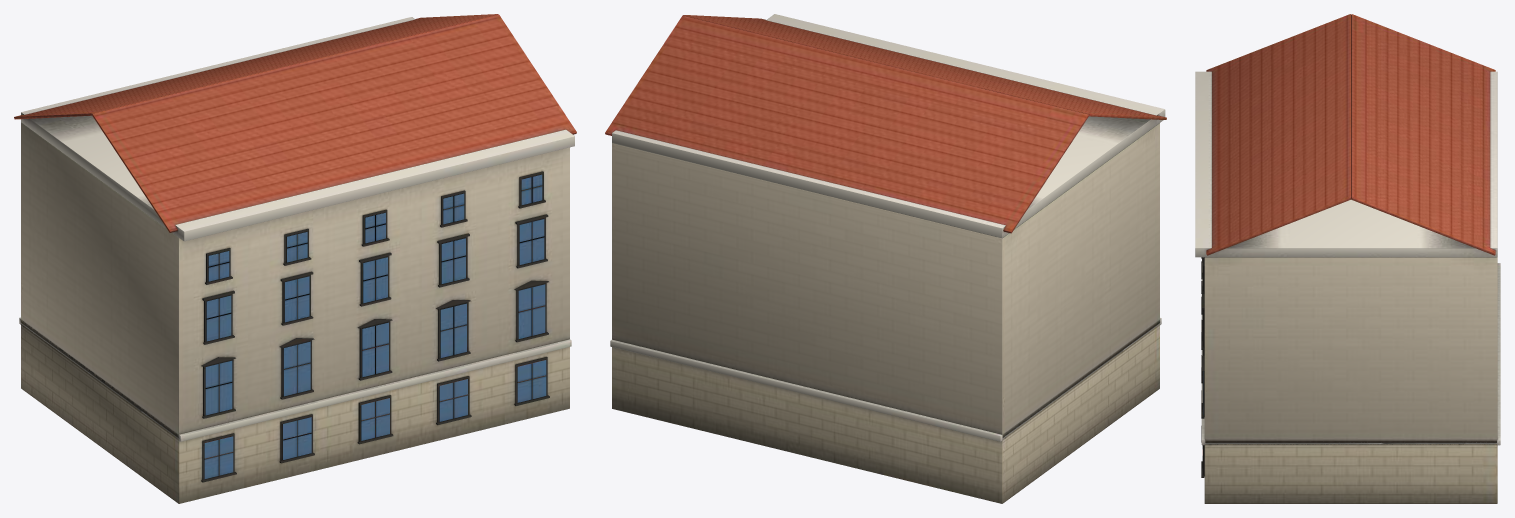
File: irs.glb
3 renders of one model, left to right at view 1: azimuth 30°, elevation 25°; view 2: azimuth 150°, elevation 25°; view 3: azimuth 270°, elevation 25°, orthographic. The views are drawn at different scales.
Visible parts, largest first — view 1: irs; view 2: irs; view 3: irs.
Boxes of the visible parts, box(x1,y1,x2,y2) form: irs: box(14, 14, 576, 503); irs: box(605, 14, 1166, 503); irs: box(1195, 14, 1500, 503).
Size of the model in its own units: 20.8 by 16.35 by 14.6.
1 material, 1 textured.
